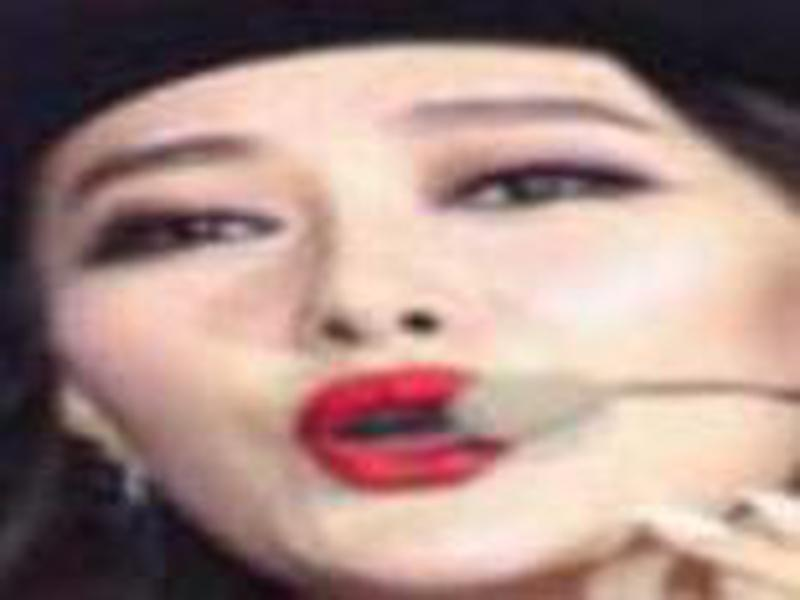without_mask: (30, 53, 800, 590)
